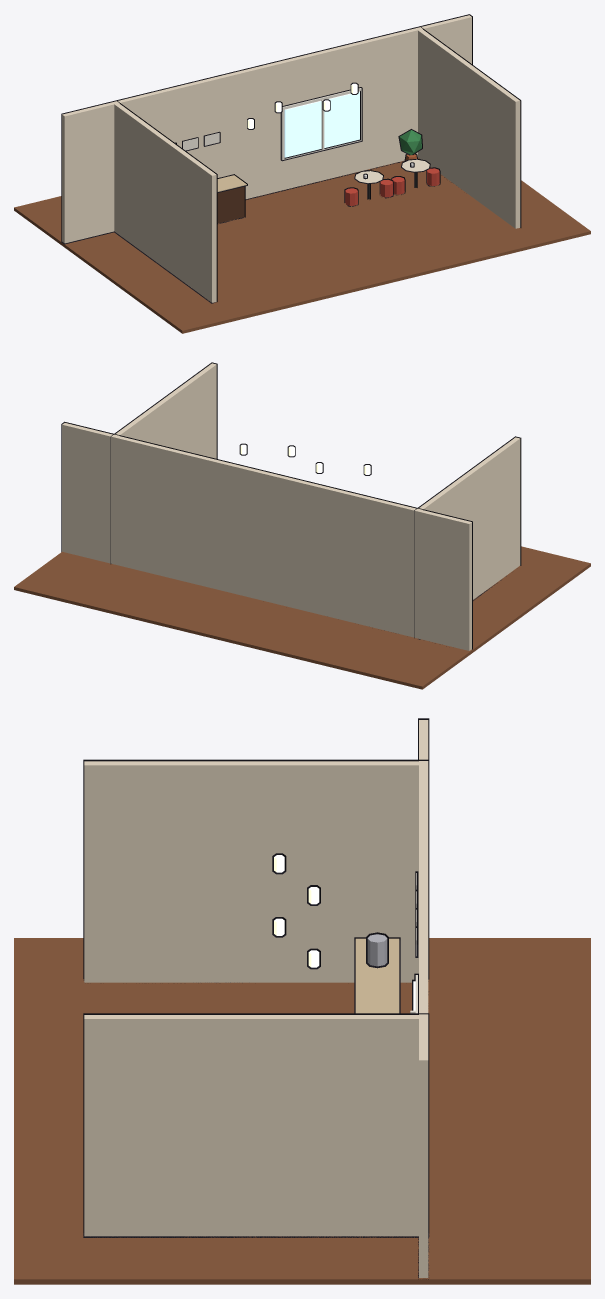
The model's file is cut-cafe.glb.
3 views of the same model, one above another, from view 1: azimuth 30°, elevation 25°; view 2: azimuth 150°, elevation 25°; view 3: azimuth 270°, elevation 25° (orthographic). The views are drawn at different scales.
Visible parts, largest first — view 1: Cube.134, Cube.135, Cube.136, Cube.137, Cube.145, Cube.138, Cube.144, Icosphere.009; view 2: Cube.135, Cube.134, Cube.136, Cube.137; view 3: Cube.134, Cube.137, Cube.136, Cube.135, Cube.139, Cylinder.022.
Part boxes in pixels (left/top/right/bottom): Cube.134: left=14, top=157, right=590, bottom=333; Cube.135: left=61, top=14, right=472, bottom=244; Cube.136: left=114, top=100, right=217, bottom=303; Cube.137: left=418, top=26, right=521, bottom=228; Cube.145: left=284, top=91, right=360, bottom=158; Cube.138: left=217, top=186, right=245, bottom=223; Cube.144: left=280, top=87, right=362, bottom=161; Icosphere.009: left=398, top=129, right=422, bottom=155; Cube.135: left=61, top=421, right=472, bottom=650; Cube.134: left=14, top=546, right=590, bottom=689; Cube.136: left=414, top=436, right=521, bottom=639; Cube.137: left=110, top=362, right=217, bottom=564; Cube.134: left=14, top=938, right=590, bottom=1284; Cube.137: left=83, top=1013, right=429, bottom=1237; Cube.136: left=83, top=759, right=429, bottom=982; Cube.135: left=418, top=718, right=429, bottom=1279; Cube.139: left=354, top=937, right=400, bottom=1013; Cylinder.022: left=366, top=932, right=388, bottom=968.
Bounding box in the file's own units: 14 × 4.3 × 10.
